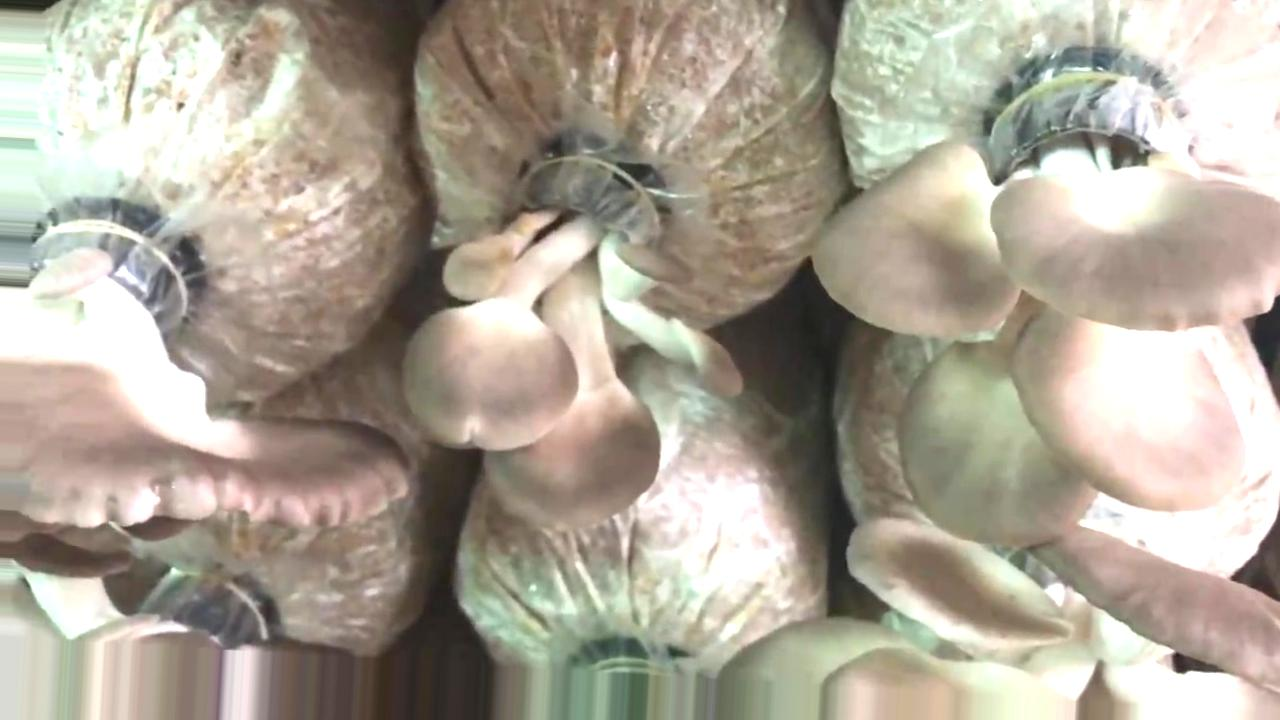nam: (809, 60, 1280, 545), (1, 203, 411, 533), (398, 135, 749, 518), (716, 538, 1278, 706)
